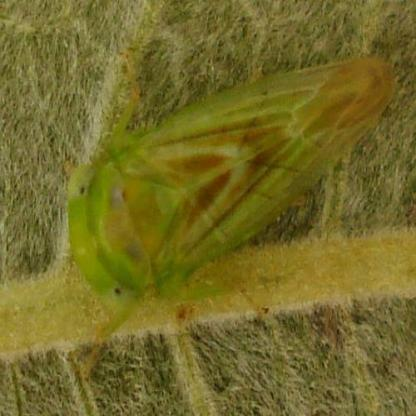green-leafhopper: (66, 47, 398, 381)
